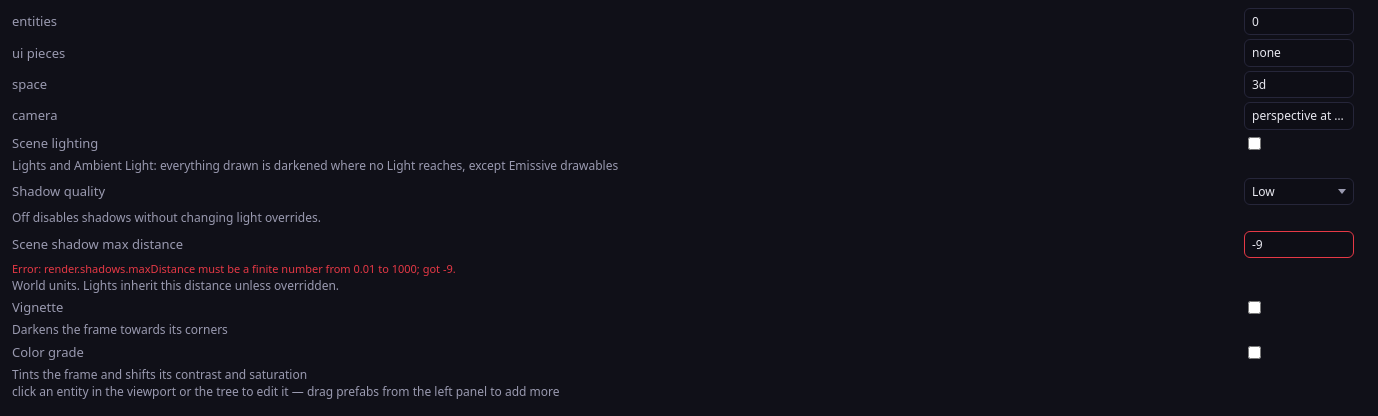
Scenario: CA-11: editing quality preserves a diagnosed authored distance until the user explicitly fixes it
expect the number field labelled "Scene shadow max distance" holds "-9": met, box [1244,231,1354,258]
Step 1. Select "Off" in the dropdown labelled "Shadow quality" → (1299, 192), box [1244,178,1354,205]
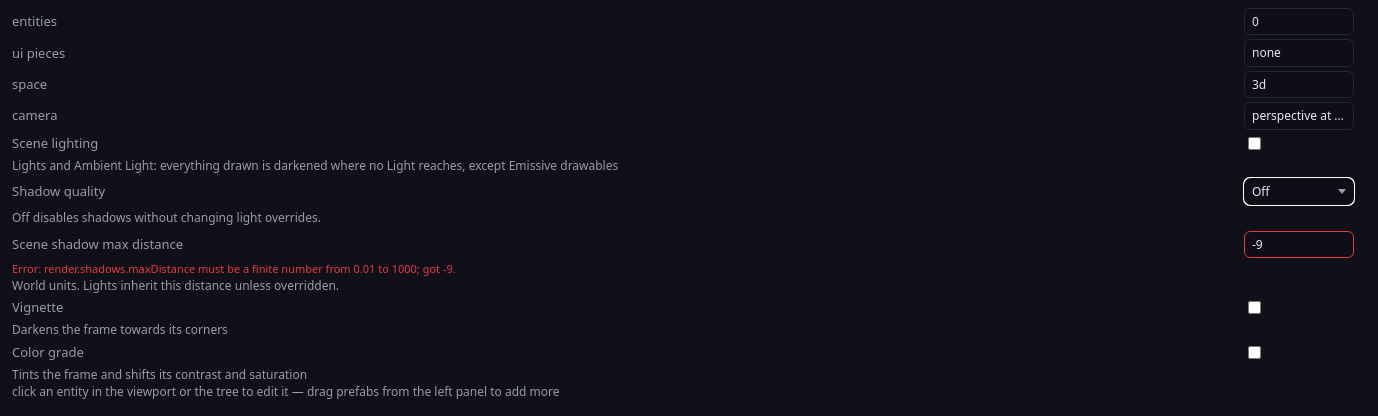
Step 2. Replace the text in the number field labelled "Scene shadow max distance" with "10" → (1299, 244), box [1244,231,1354,258]
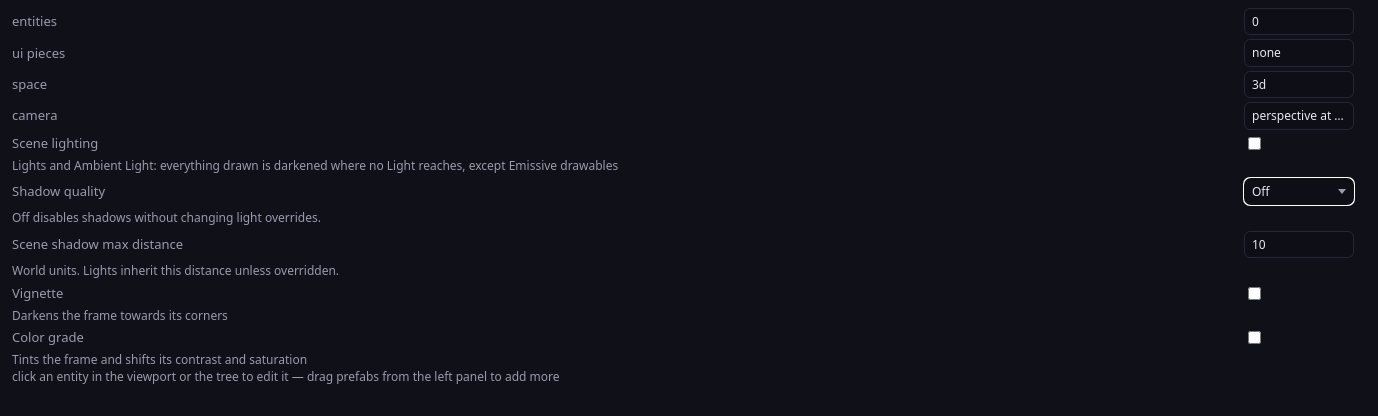
expect the message is gone: met
